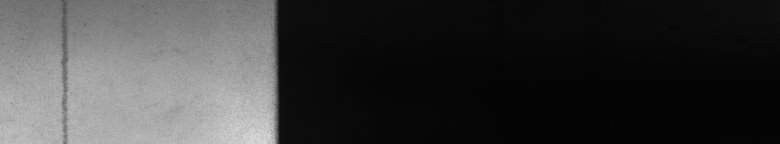hd: (56, 4, 72, 136)
